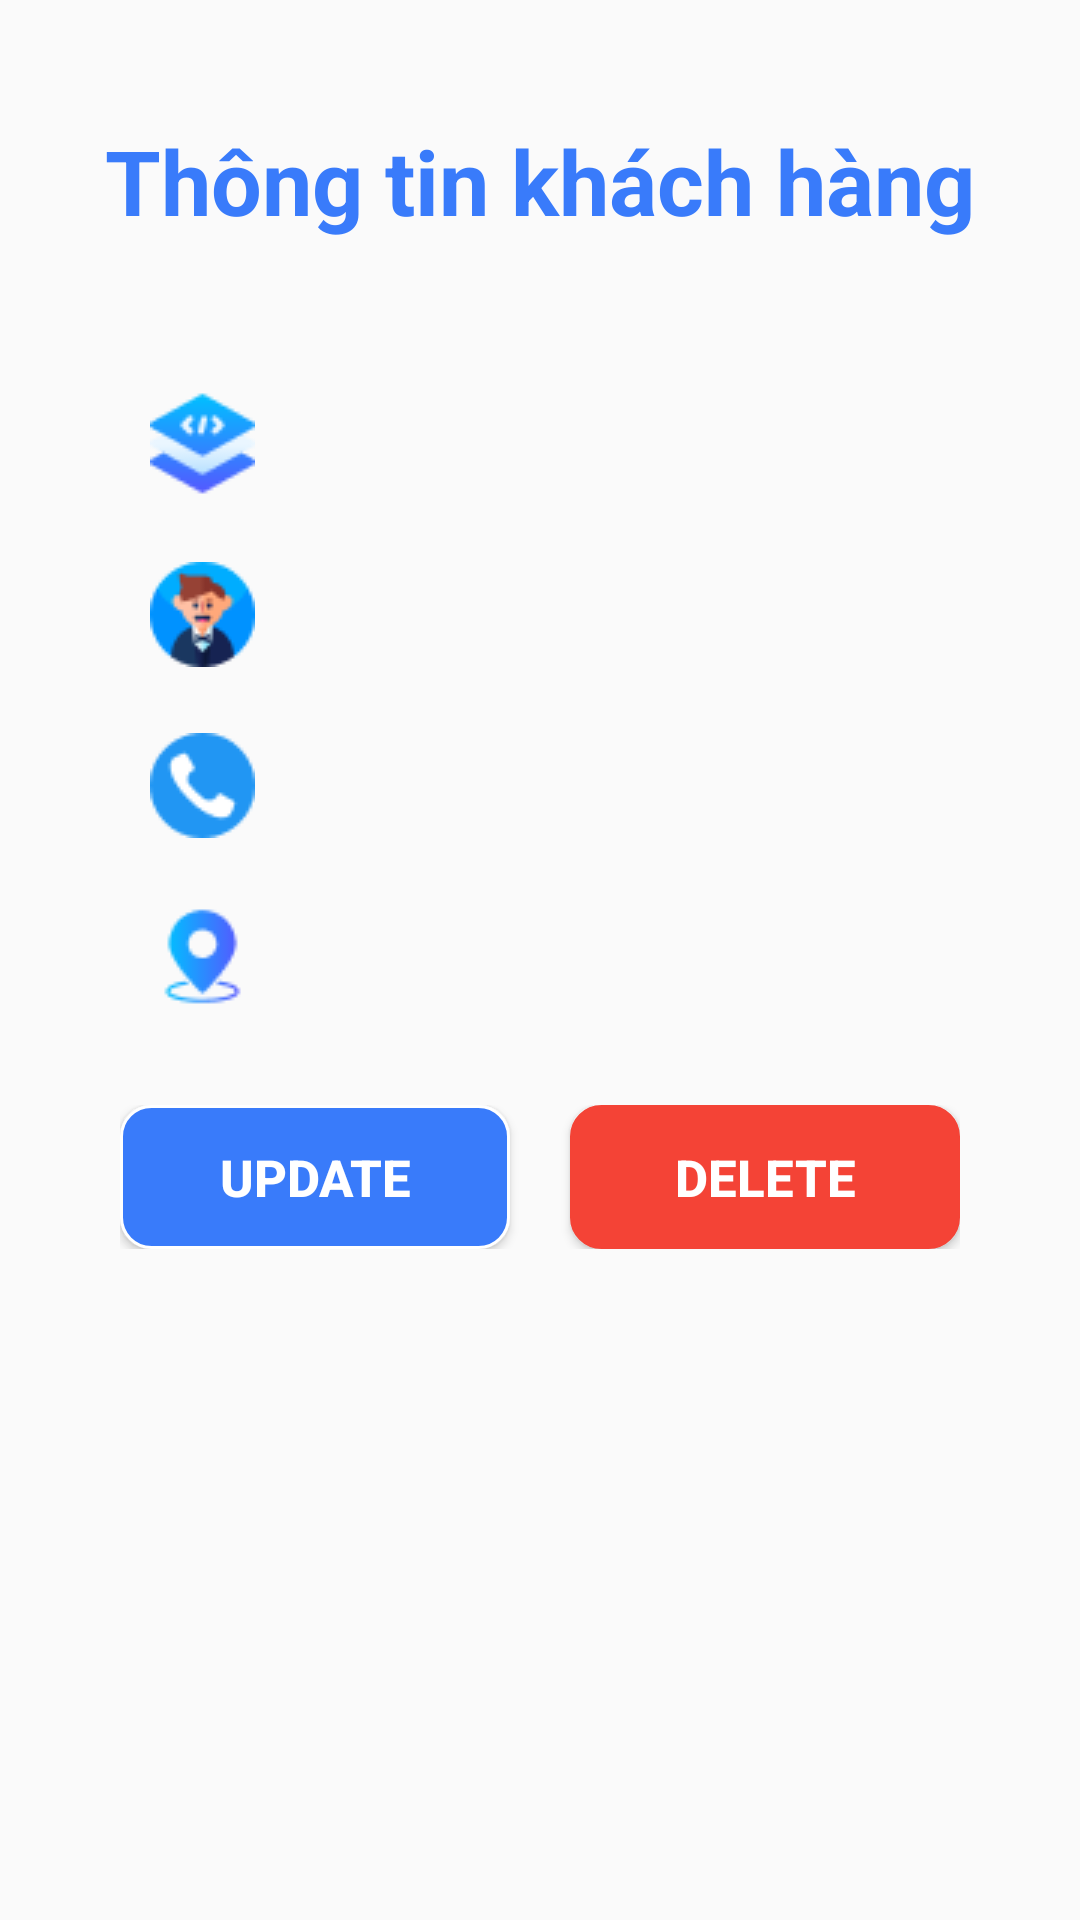

Icons on this 1080px×1920px Android screen, each with its box as (x1, y1, x2, y2):
diachi: (164, 909, 241, 1004)
makh: (150, 393, 255, 494)
tenkh: (150, 562, 255, 667)
